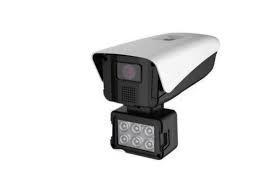tutu: (93, 23, 223, 111)
